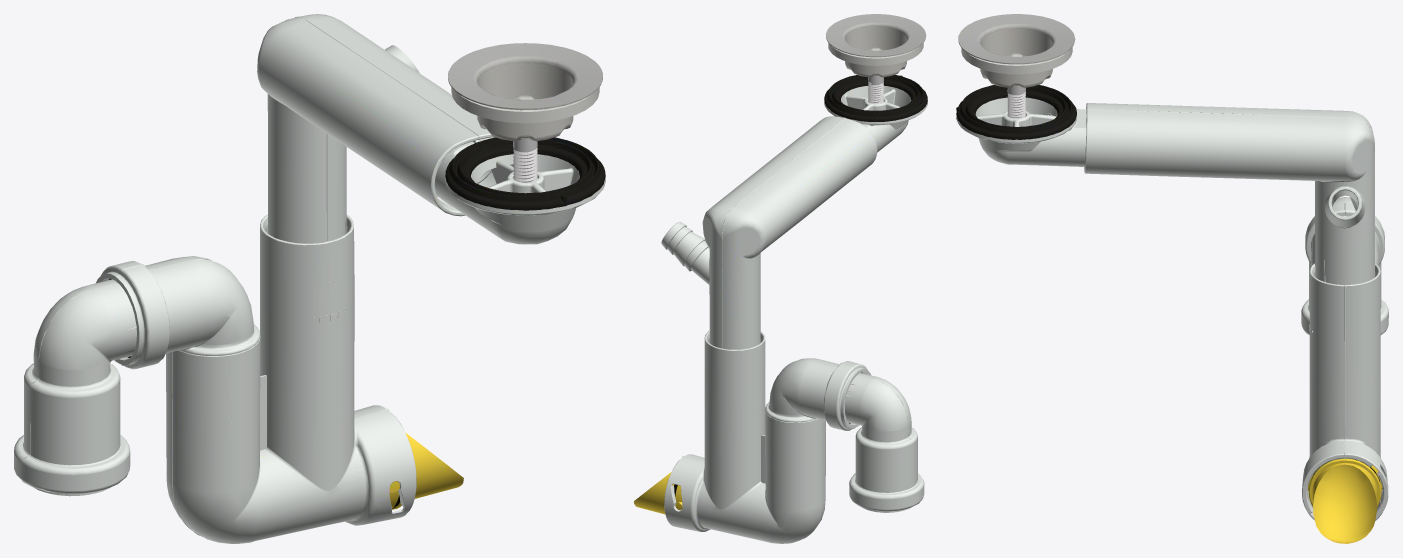
Rendered from rannilen_syfon_z_elastyczna_rurka_1_komora_20554532.glb.
The picture shows the model from 3 angles, left to right: view 1: azimuth 30°, elevation 25°; view 2: azimuth 150°, elevation 25°; view 3: azimuth 270°, elevation 25°; orthographic projection. The views are drawn at different scales.
Visible parts, largest first — view 1: rannilen_syfon_z_elastyczna_rurka_1_komora_20554532; view 2: rannilen_syfon_z_elastyczna_rurka_1_komora_20554532; view 3: rannilen_syfon_z_elastyczna_rurka_1_komora_20554532.
Part boxes in pixels (x1=…): rannilen_syfon_z_elastyczna_rurka_1_komora_20554532: x1=14, y1=14, x2=605, y2=543; rannilen_syfon_z_elastyczna_rurka_1_komora_20554532: x1=634, y1=14, x2=927, y2=543; rannilen_syfon_z_elastyczna_rurka_1_komora_20554532: x1=956, y1=14, x2=1388, y2=543.
Size of the model in its own units: 0.1997 by 0.2765 by 0.2334.
2 materials, 2 textured.
